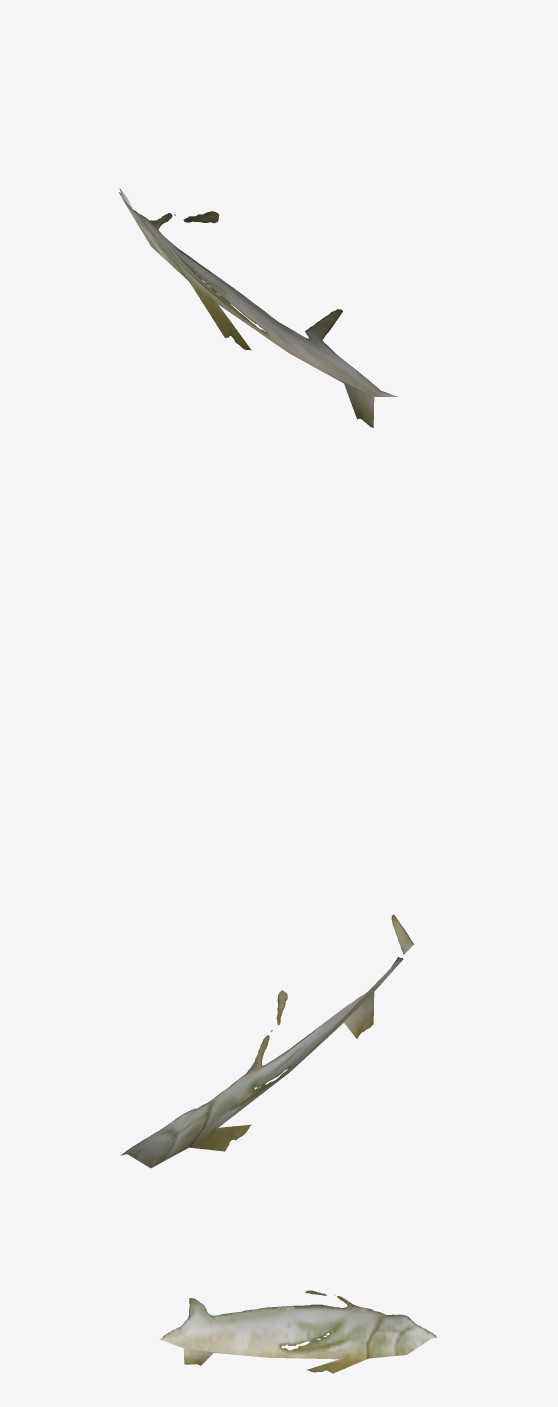
The model's file is INST_LT_GMARLIN.obj.
3 views of the same model, one above another, from view 1: azimuth 30°, elevation 25°; view 2: azimuth 150°, elevation 25°; view 3: azimuth 270°, elevation 25° (orthographic). The views are drawn at different scales.
Visible parts, largest first — view 1: _g_marlin_LOD1_; view 2: _g_marlin_LOD1_; view 3: _g_marlin_LOD1_.
Boxes of the visible parts, <box> form: _g_marlin_LOD1_: <box>118,188,397,427</box>; _g_marlin_LOD1_: <box>120,914,413,1168</box>; _g_marlin_LOD1_: <box>160,1290,437,1373</box>.
Size of the model in its own units: 7.98 by 46.35 by 125.
